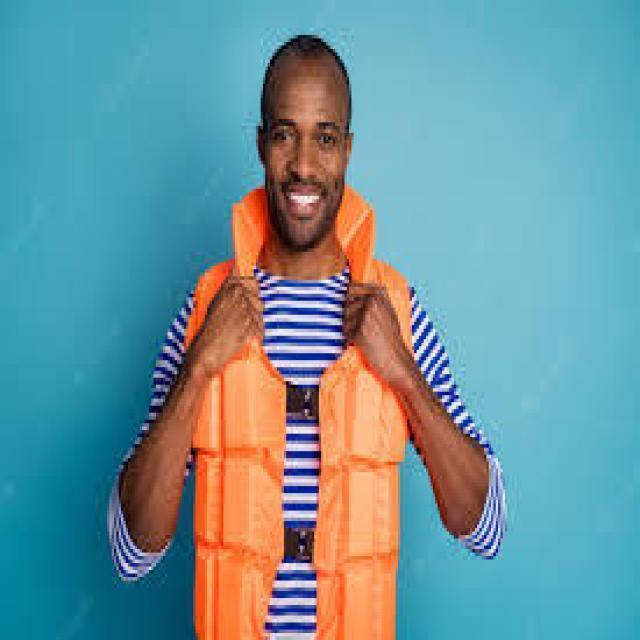safety_helmet: (188, 182, 414, 640)
